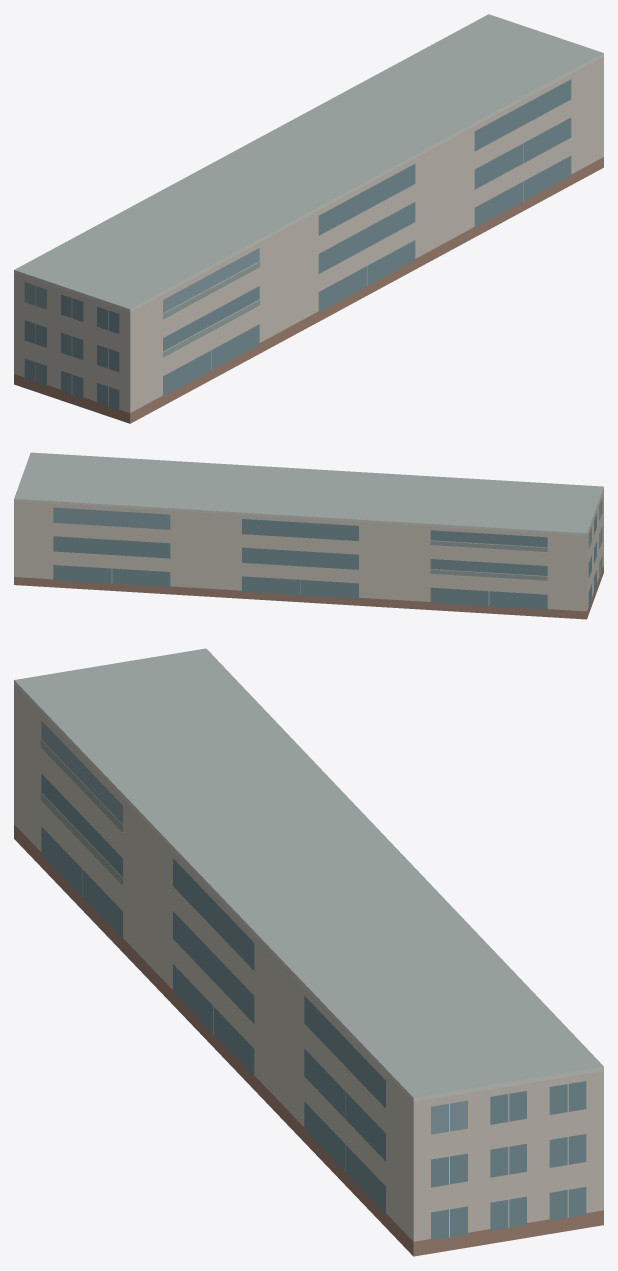
The model's file is survey-upis-33019859.glb.
3 renders of one model, top to bottom at view 1: azimuth 30°, elevation 25°; view 2: azimuth 150°, elevation 25°; view 3: azimuth 270°, elevation 25°, orthographic. The views are drawn at different scales.
Visible parts, largest first — view 1: survey-upis-33019859.tmp; view 2: survey-upis-33019859.tmp; view 3: survey-upis-33019859.tmp.
Boxes of the visible parts, x1,y1,x2,y2 form: survey-upis-33019859.tmp: (14,14,603,423); survey-upis-33019859.tmp: (14,452,603,619); survey-upis-33019859.tmp: (14,648,603,1256).
Bounding box in the file's own units: 55.58 × 9.15 × 30.83.
